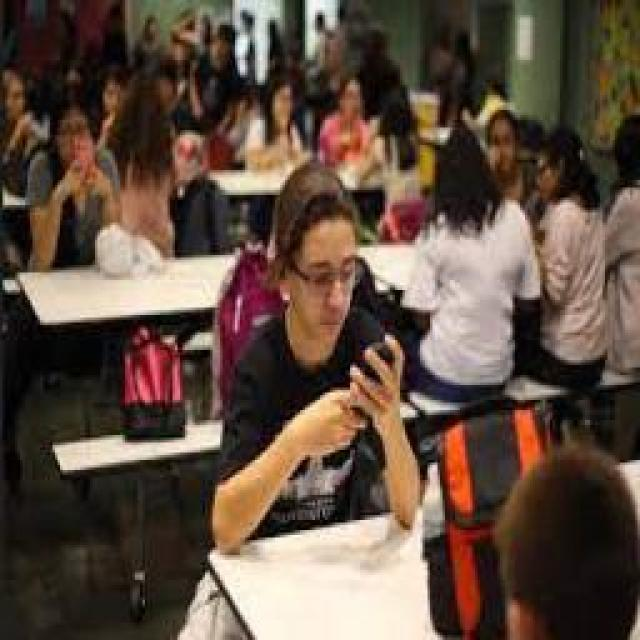phone: (210, 160, 415, 545), (25, 98, 123, 272)
